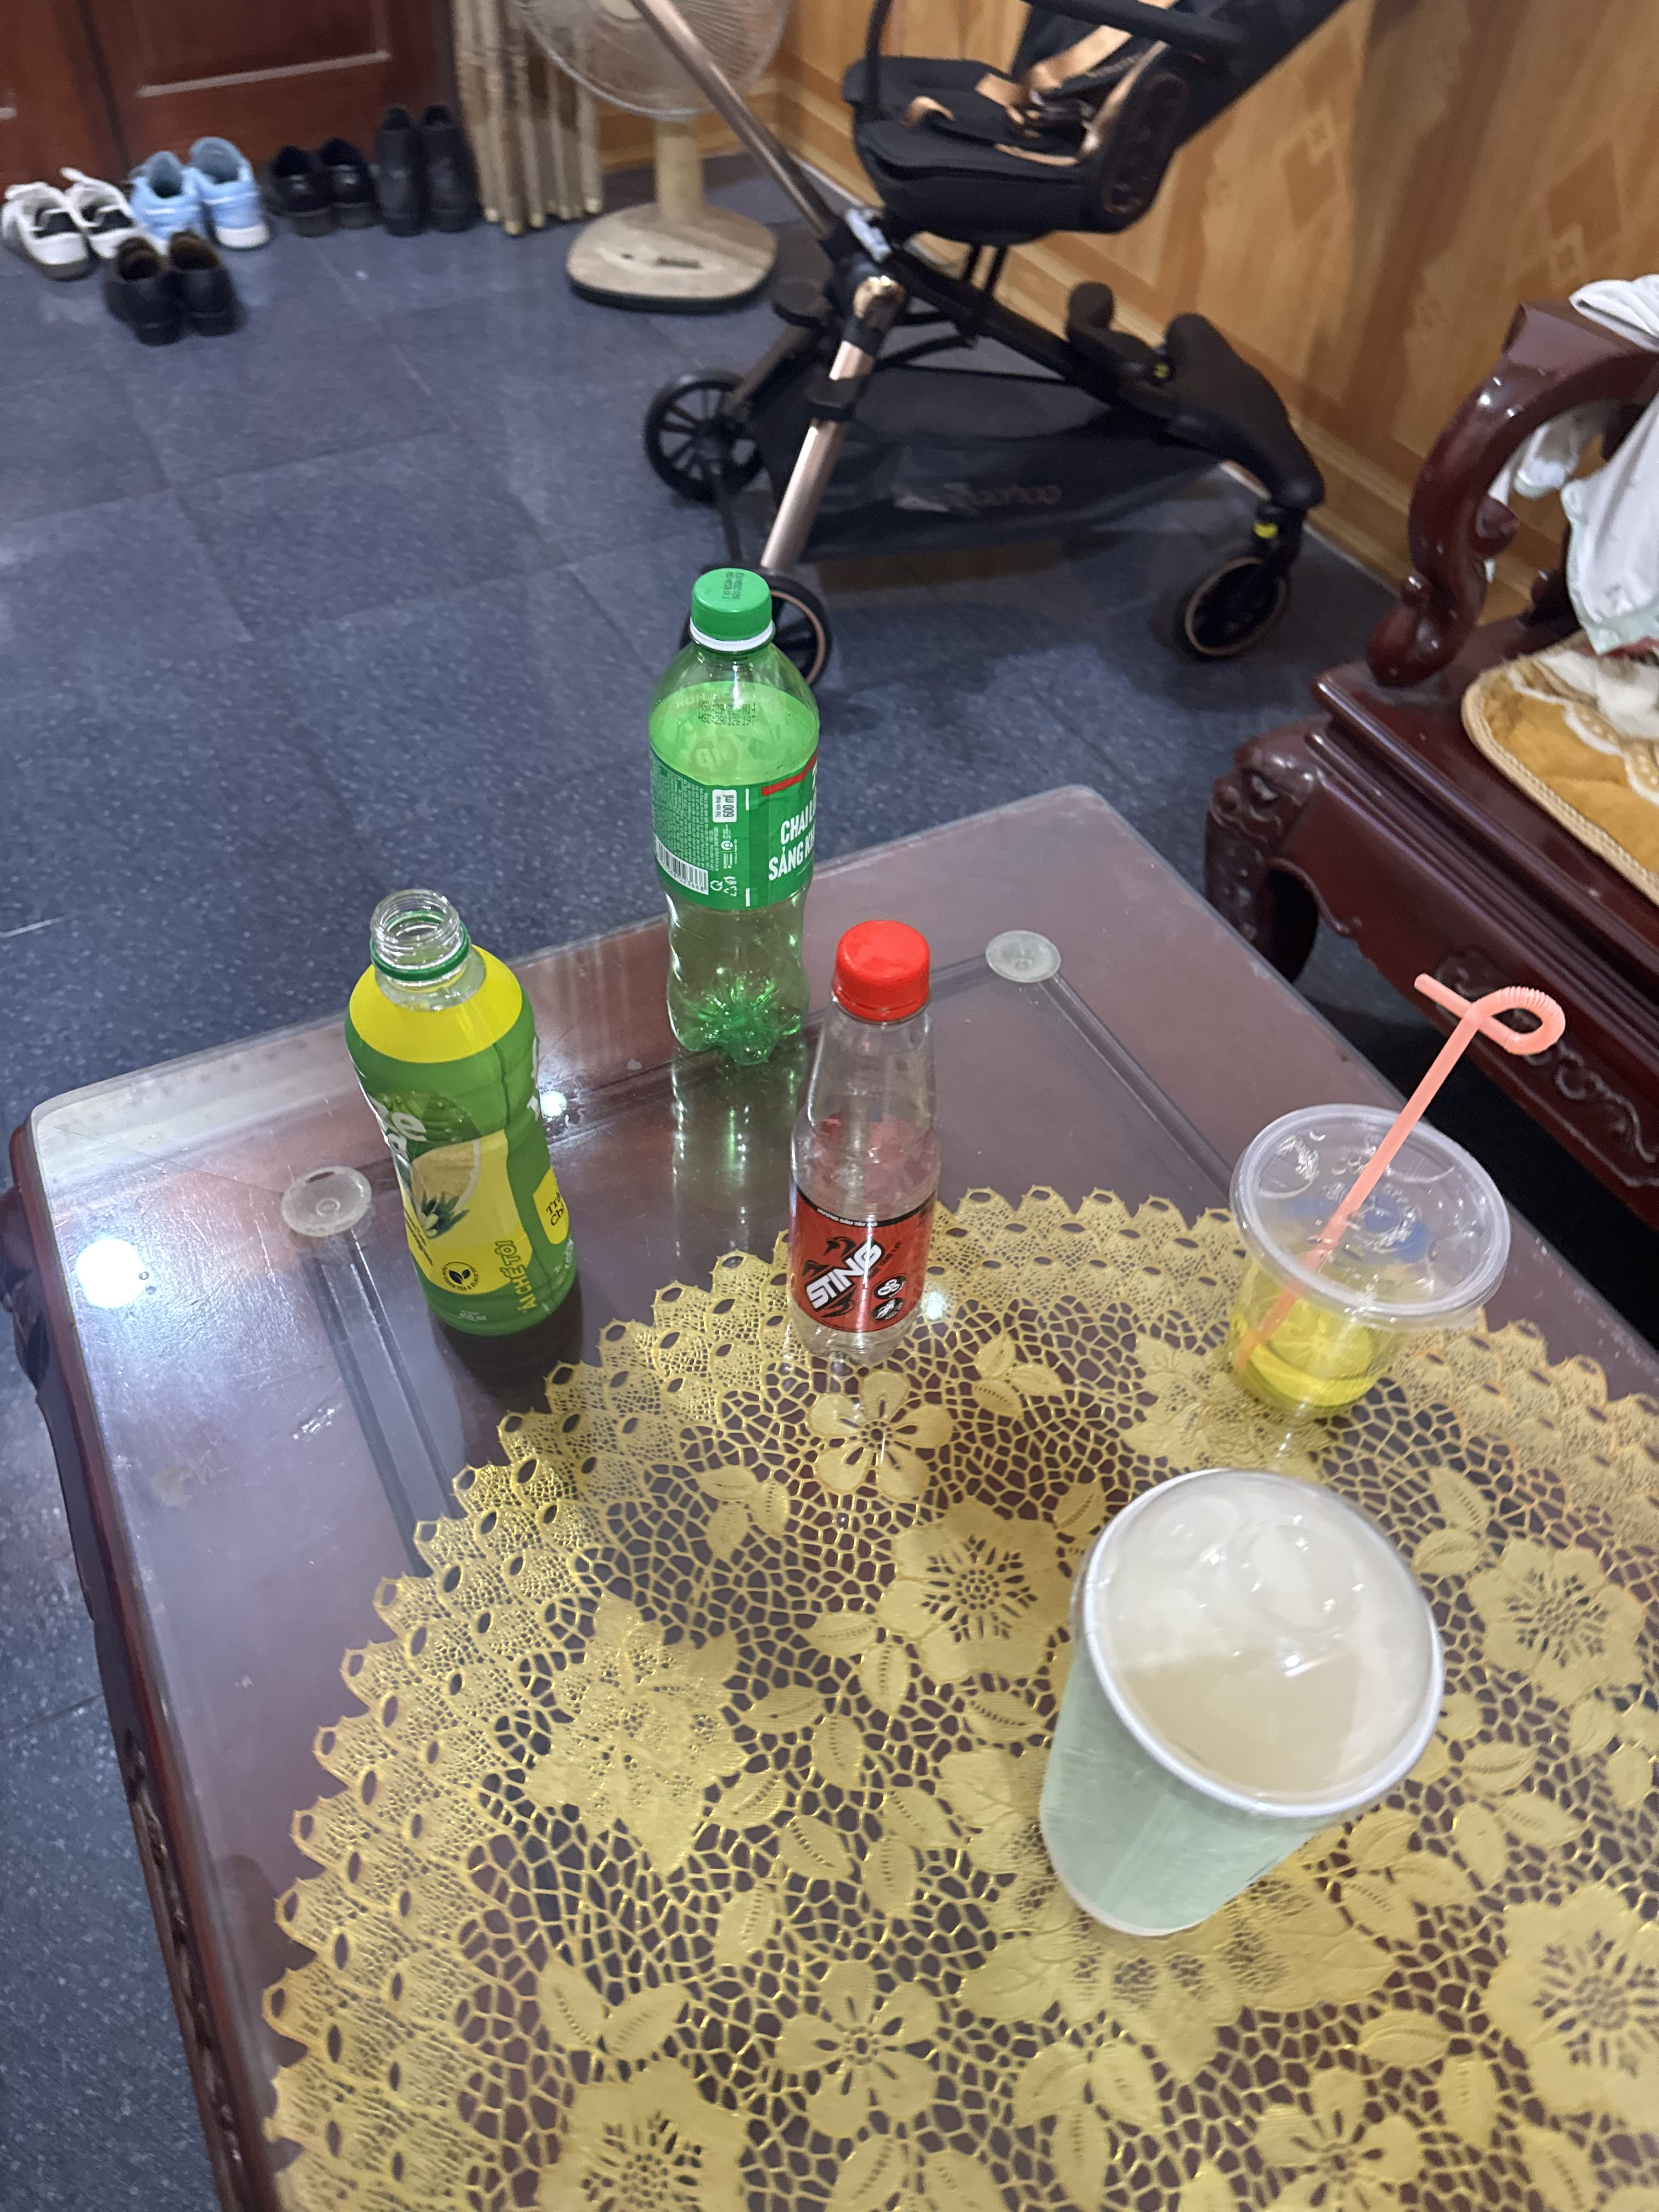2: (1009, 1435, 1480, 2020), (1194, 1076, 1535, 1465)
bottle: (310, 867, 627, 1366), (755, 906, 983, 1393), (622, 549, 831, 1073)
